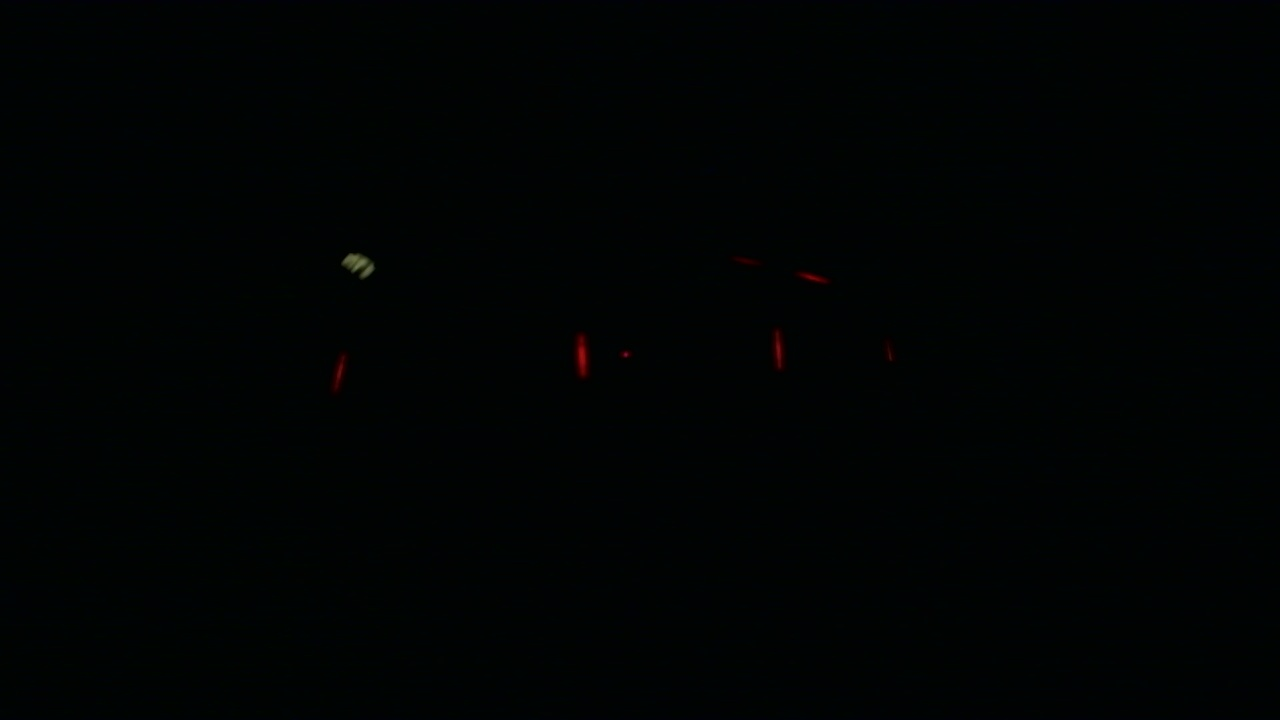lamp: (329, 339, 342, 387), (771, 332, 784, 377), (576, 339, 589, 377)
notpair2: (331, 340, 591, 387)
pair2: (575, 334, 785, 377)
